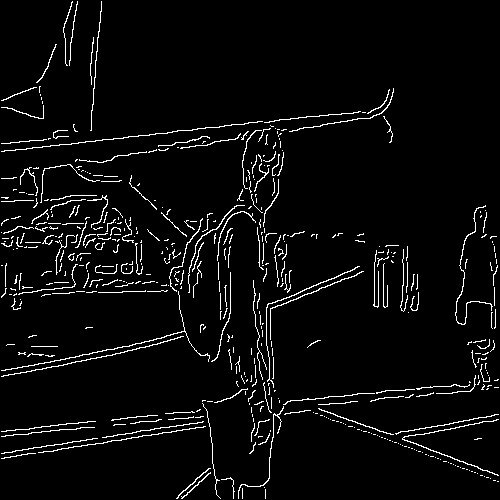mask: (250, 175, 283, 213)
